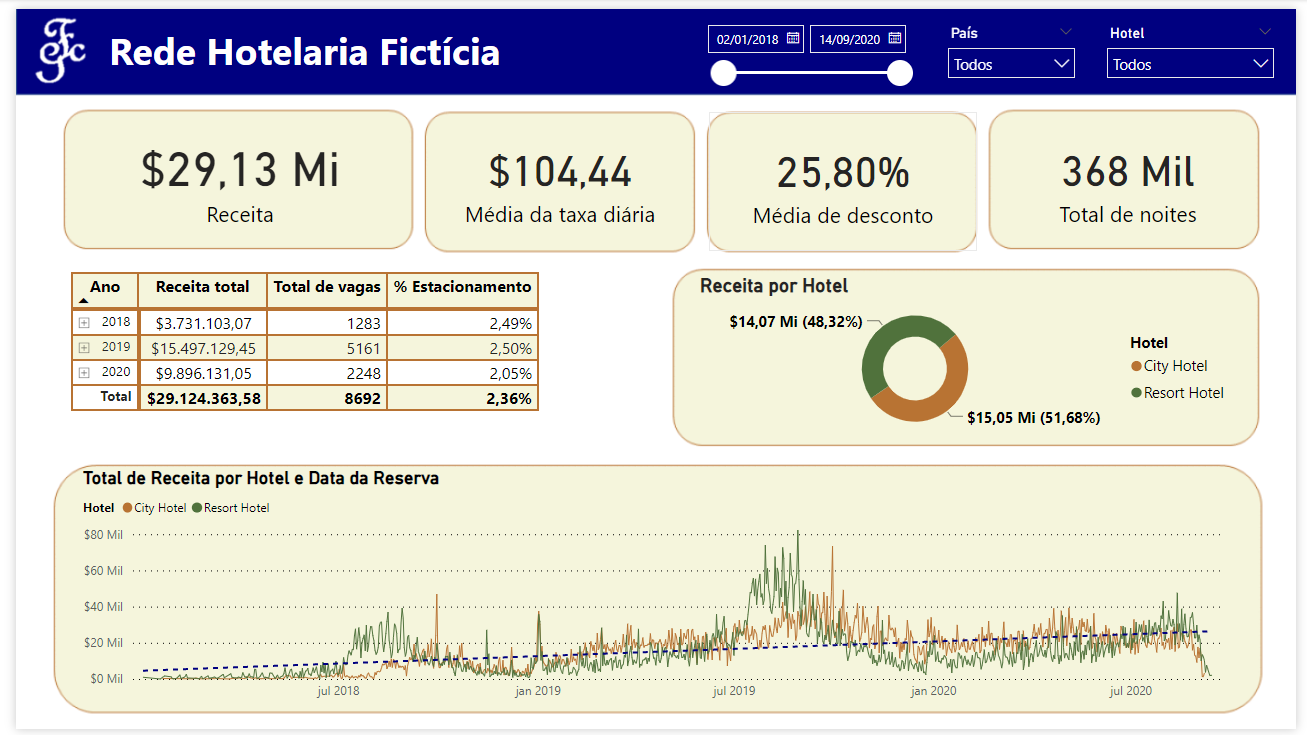

The page's visual inventory and layout, read from the dashboard file:
{"tool":"powerbi","page":{"name":"Hotel","canvas":[1280,720],"ordinal":0},"visuals":[{"type":"card","fields":{"Values":["Sum(Hotel.receita)"]},"box":[50,99,348,139],"z":0},{"type":"card","fields":{"Values":["Avg(Hotel.taxa_diaria)"]},"box":[408,104,272,136],"z":1000},{"type":"card","fields":{"Values":["Hotel.Total de noites"]},"box":[976,104,272,136],"z":2000},{"type":"card","fields":{"Values":["Avg(Hotel.desconto)"]},"box":[693,103,268,139],"z":3000},{"type":"lineChart","title":"Total de Receita por Hotel e Data da Reserva","fields":{"Y":["Sum(Hotel.receita)"],"Category":["Hotel.data_status_reserva"],"Series":["Hotel.hotel"]},"box":[62,458,1160,242],"z":4000},{"type":"slicer","fields":{"Values":["Hotel.hotel"]},"box":[1081,11,187,70],"z":5000},{"type":"donutChart","title":"Receita por Hotel","fields":{"Category":["Hotel.hotel"],"Y":["Sum(Hotel.receita)"]},"box":[679,265,543,167],"z":6000},{"type":"pivotTable","fields":{"Rows":["Hotel.data_status_reserva.Variation.Hierarquia de datas.Ano","Hotel.hotel"],"Values":["Sum(Hotel.receita)","Sum(Hotel.vagas_necessarias_de_estacionamento)","Hotel.% Estacionamento"]},"box":[50,258,544,200],"z":7000},{"type":"slicer","fields":{"Values":["Hotel.data_status_reserva"]},"box":[679,6,226,75],"z":8000},{"type":"slicer","fields":{"Values":["Hotel.país"]},"box":[922,11,147,66],"z":9000},{"type":"image","box":[0,0,88,88],"z":9001},{"type":"textbox","box":[88,11,413,70],"z":9002}]}

Visuals, with their boxes in screenshot pixels (x1, y1, x2, y2), scaled from the page's 1280x720 canvas onto the 1307x735 screenshot:
card - Sum(Hotel.receita): Rect(51, 101, 406, 243)
card - Avg(Hotel.taxa_diaria): Rect(417, 106, 694, 245)
card - Hotel.Total de noites: Rect(997, 106, 1274, 245)
card - Avg(Hotel.desconto): Rect(708, 105, 981, 247)
"Total de Receita por Hotel e Data da Reserva" lineChart: Rect(63, 468, 1248, 715)
slicer - Hotel.hotel: Rect(1104, 11, 1295, 83)
"Receita por Hotel" donutChart: Rect(693, 271, 1248, 441)
pivotTable - Hotel.data_status_reserva.Variation.Hierarquia de datas.Ano x Hotel.hotel: Rect(51, 263, 607, 468)
slicer - Hotel.data_status_reserva: Rect(693, 6, 924, 83)
slicer - Hotel.país: Rect(941, 11, 1092, 79)
image: Rect(0, 0, 90, 90)
textbox: Rect(90, 11, 512, 83)
